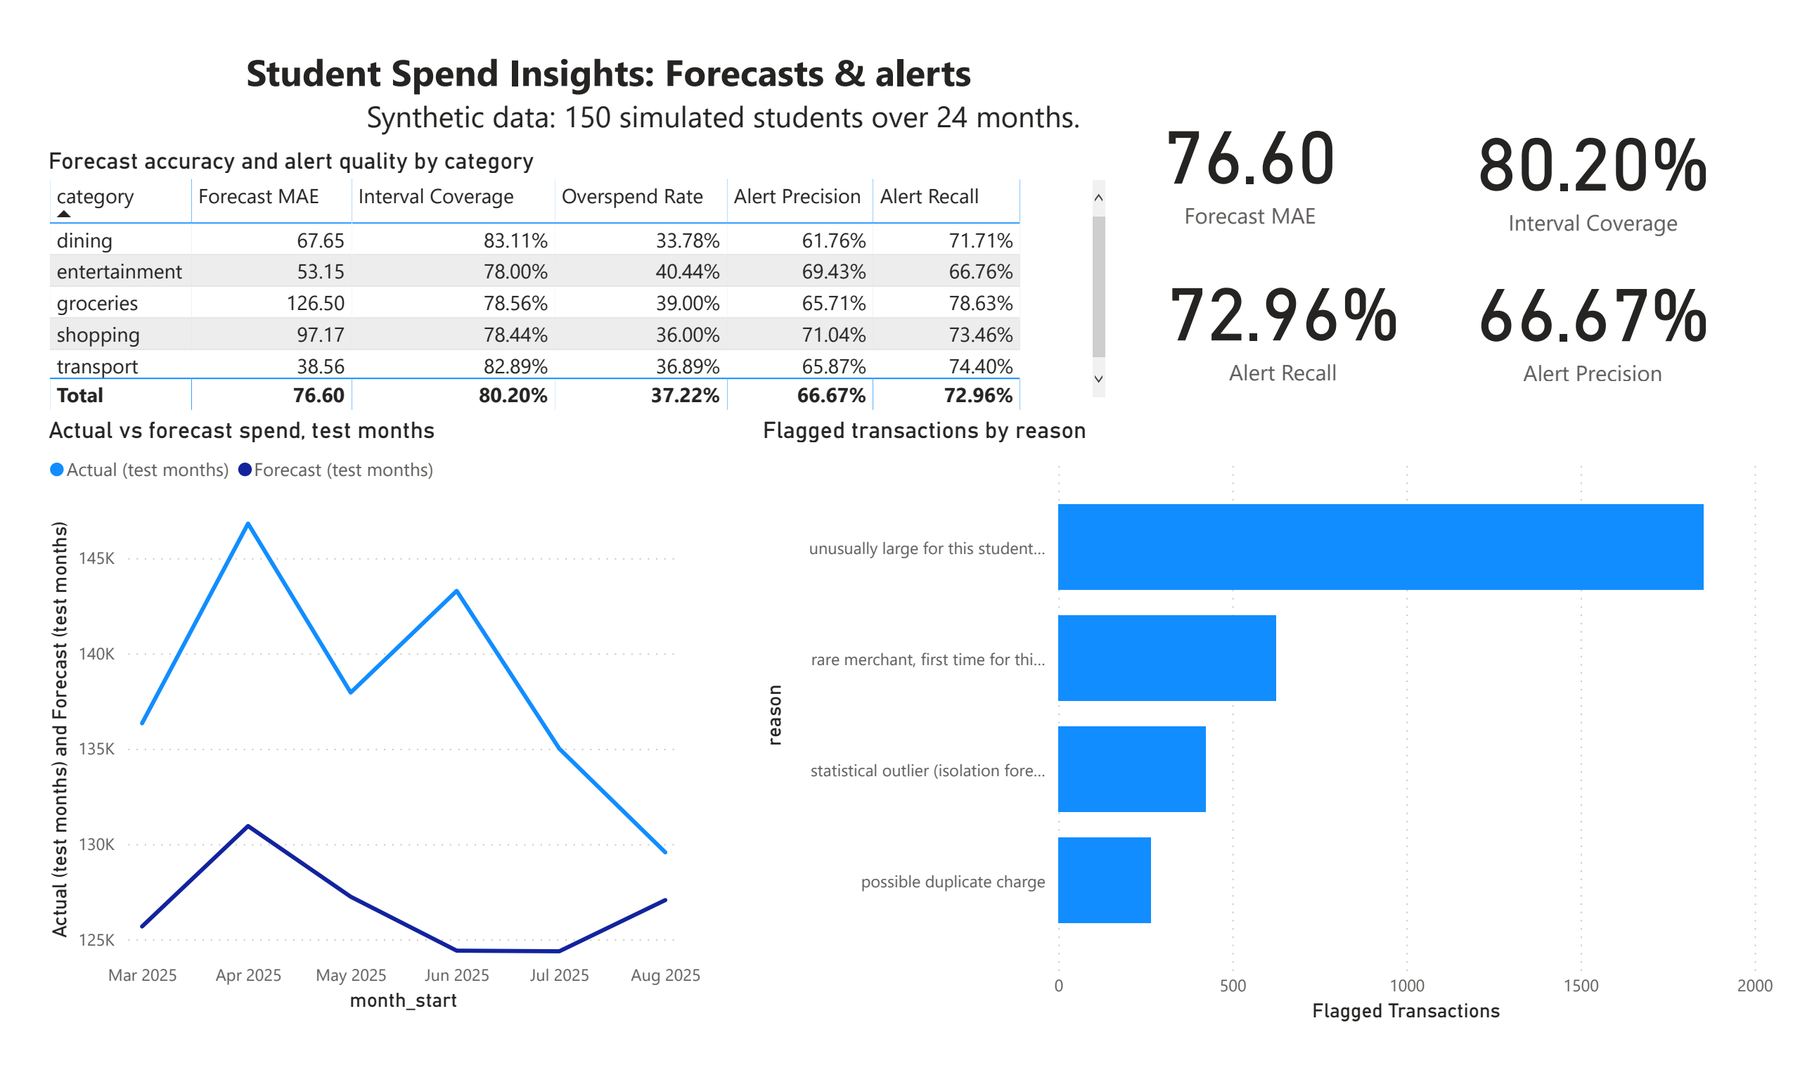

Layout of this report page (visuals, bound fields, positions):
{"tool":"powerbi","page":{"name":"Forecasts & alerts","canvas":[1280,720],"ordinal":2},"visuals":[{"type":"card","fields":{"Values":["_Measures.Forecast MAE"]},"box":[789,31.6,212.1,116.1],"z":0},{"type":"card","fields":{"Values":["_Measures.Interval Coverage"]},"box":[1023.7,39.1,242.4,111.1],"z":1000},{"type":"card","fields":{"Values":["_Measures.Alert Precision"]},"box":[1022.5,155.3,243.6,98.5],"z":2000},{"type":"card","fields":{"Values":["_Measures.Alert Recall"]},"box":[812.9,147.7,212.1,112.3],"z":3000},{"type":"lineChart","title":"Actual vs forecast spend, test months","fields":{"Category":["dim_date.month_start"],"Y":["_Measures.Actual (test months)","_Measures.Forecast (test months)"]},"box":[15.1,273.9,484.7,438],"z":4000},{"type":"tableEx","title":"Forecast accuracy and alert quality by category","fields":{"Values":["dim_category.category","_Measures.Forecast MAE","_Measures.Interval Coverage","_Measures.Overspend Rate","_Measures.Alert Precision","_Measures.Alert Recall"]},"box":[15.1,78.3,778.9,195.7],"z":5000},{"type":"clusteredBarChart","title":"Flagged transactions by reason","fields":{"Y":["_Measures.Flagged Transactions"],"Category":["fact_flags.reason"]},"box":[535.2,273.9,744.8,445.6],"z":6000},{"type":"textbox","box":[159.1,0,653.9,78.3],"z":7000}]}

Visuals, with their boxes on the page's 1280x720 design canvas (x1, y1, x2, y2). These are canvas units, not pixel positions in the 1800x1068 screenshot, which may show the page scaled, cropped or inside an application window:
card - _Measures.Forecast MAE: <bbox>789, 32, 1001, 148</bbox>
card - _Measures.Interval Coverage: <bbox>1024, 39, 1266, 150</bbox>
card - _Measures.Alert Precision: <bbox>1022, 155, 1266, 254</bbox>
card - _Measures.Alert Recall: <bbox>813, 148, 1025, 260</bbox>
"Actual vs forecast spend, test months" lineChart: <bbox>15, 274, 500, 712</bbox>
"Forecast accuracy and alert quality by category" tableEx: <bbox>15, 78, 794, 274</bbox>
"Flagged transactions by reason" clusteredBarChart: <bbox>535, 274, 1280, 720</bbox>
textbox: <bbox>159, 0, 813, 78</bbox>
